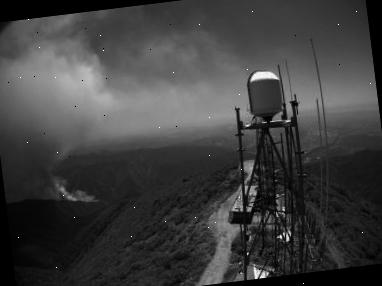smoke: (0, 38, 119, 214)
